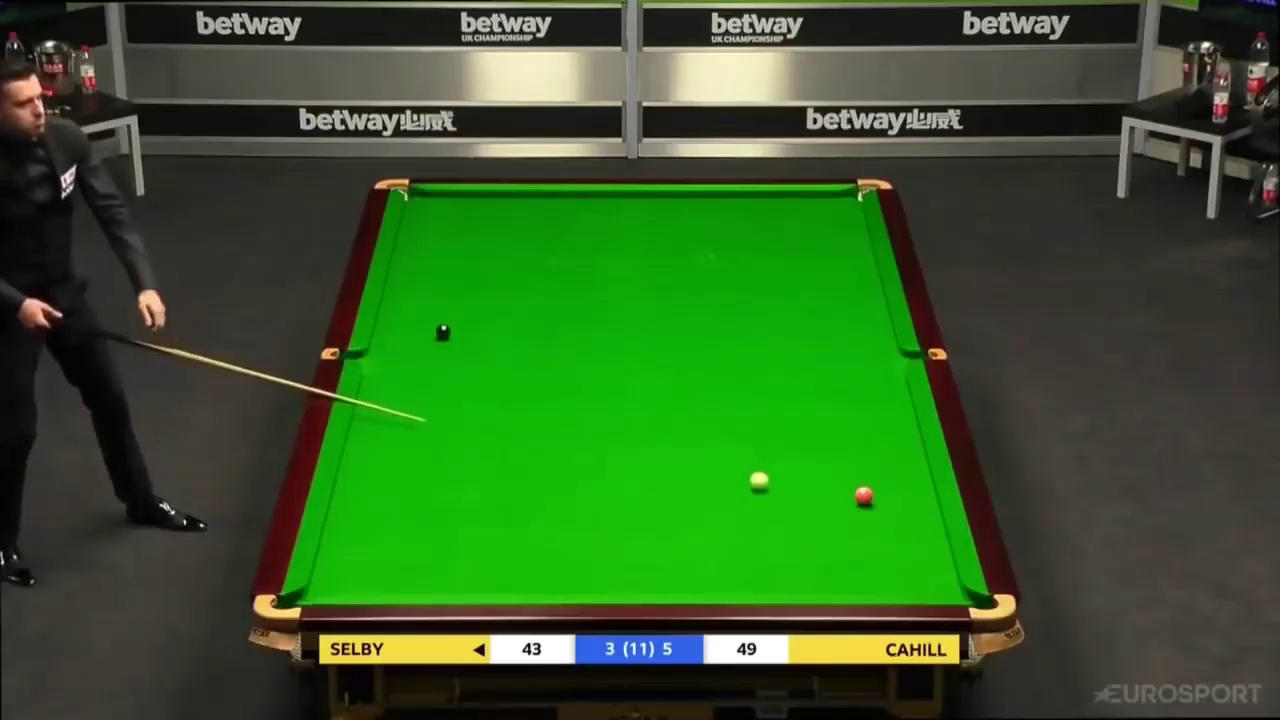ball: (854, 487, 875, 508), (435, 325, 450, 341)
